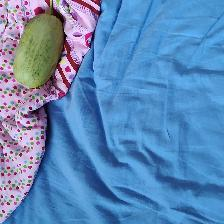gua: (21, 10, 52, 88)
